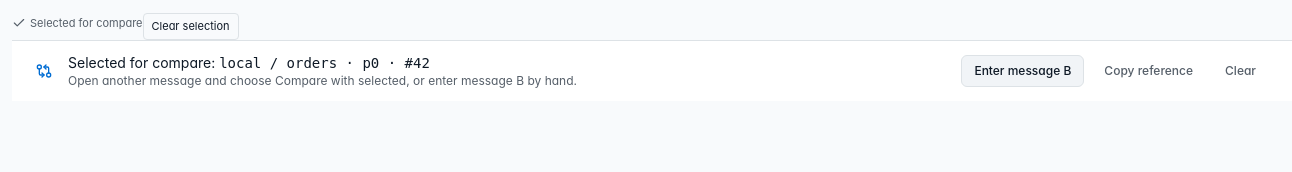
Test: compare selection flow › clears the selection from the bar and hands focus to the message
The width and height of the screenshot is (1292, 172).
Click the button "Clear" at (1241, 70), box [1213,54,1268,86]
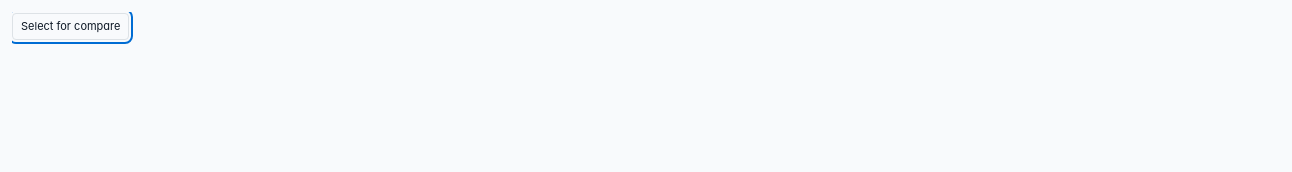
Check: the element with test id "compare-tray" is gone
